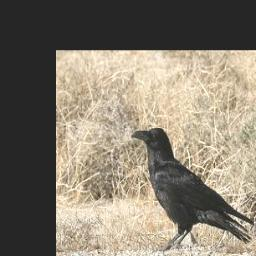Crow: (131, 126, 254, 250)
